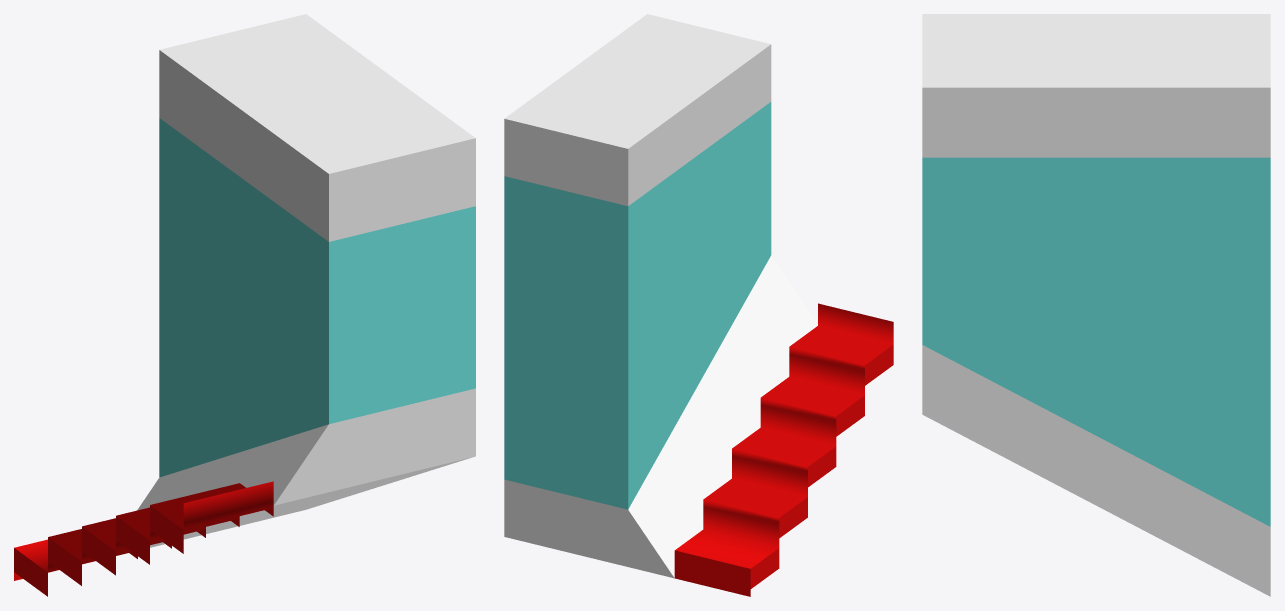
File: Wall-LowToMid.fbx
3 views of the same model, side by side, from view 1: azimuth 30°, elevation 25°; view 2: azimuth 150°, elevation 25°; view 3: azimuth 270°, elevation 25° (orthographic). The views are drawn at different scales.
Visible parts, largest first — view 1: LowToMid; view 2: LowToMid; view 3: LowToMid.
Boxes of the visible parts, x1,y1,x2,y2 form: LowToMid: [14, 14, 475, 596]; LowToMid: [504, 14, 893, 596]; LowToMid: [922, 14, 1270, 596].
Size of the model in its own units: 78.28 by 127 by 78.74.
